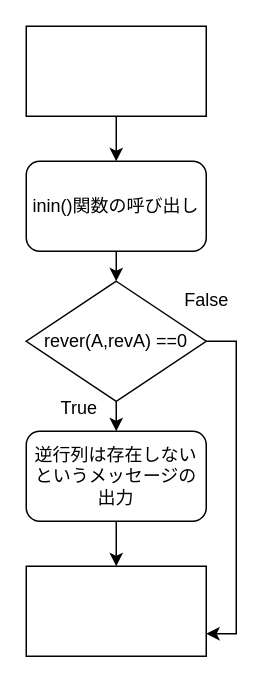
This 275x683 diagram has some shape labels left out. Here are the shapes that lost their labels. From the top down, the centre of each, then its label:
At point (115, 70): "main()関数 開始".
At point (115, 610): "終了".
